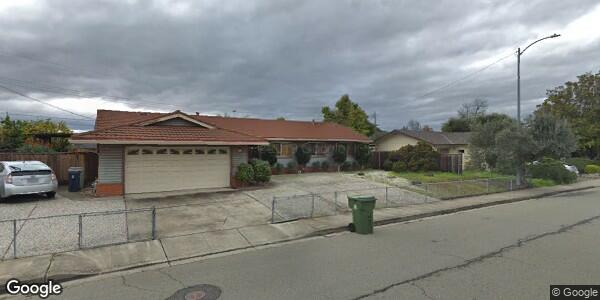Steel_Pole: (515, 30, 563, 185)
